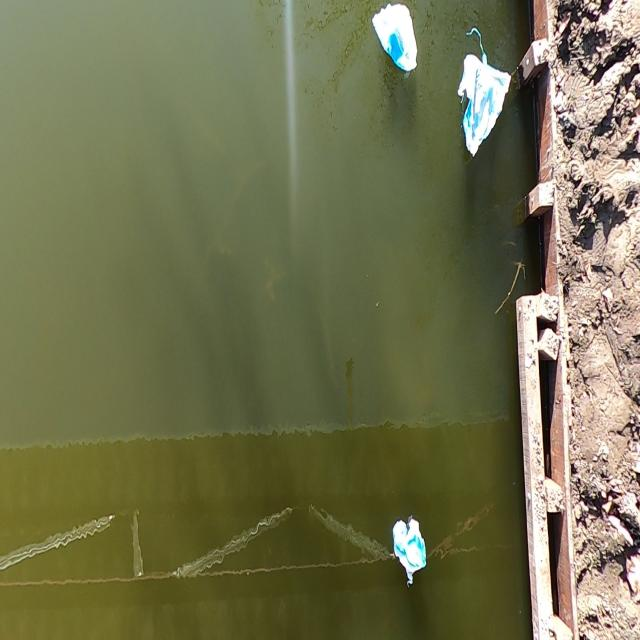Sac plastique: (449, 43, 513, 164), (366, 0, 422, 77), (386, 514, 432, 594)
